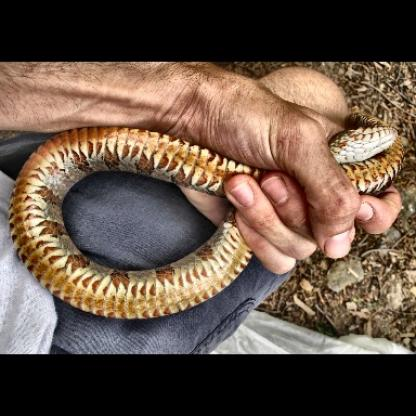Snake: (4, 91, 416, 354)
